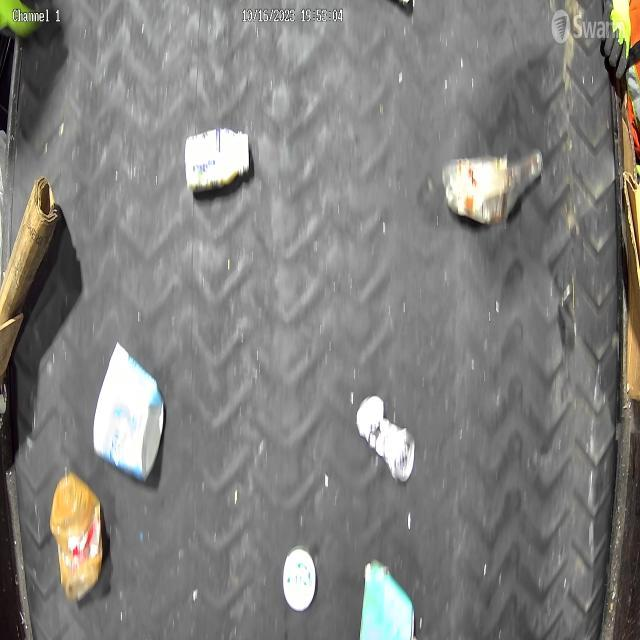can: (358, 382, 423, 490)
